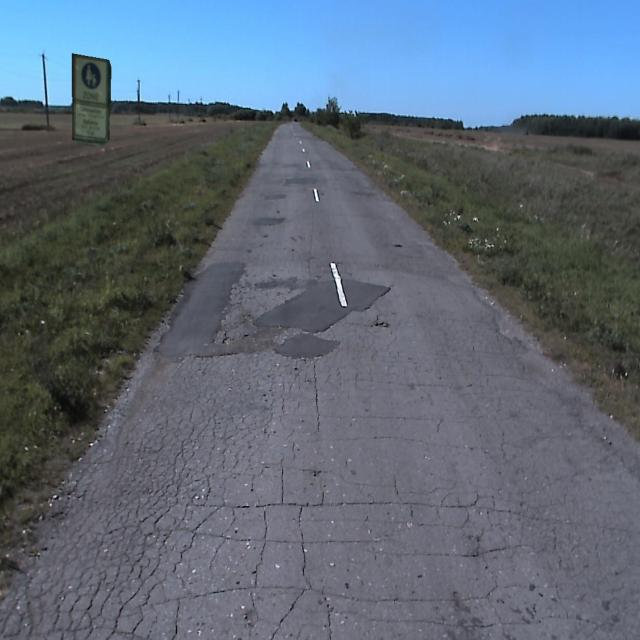road: (0, 122, 639, 639)
